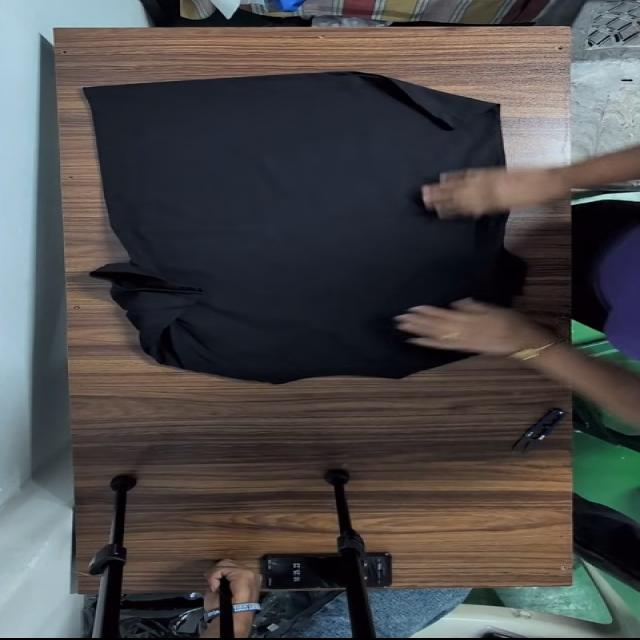new-garment: (84, 72, 511, 382)
